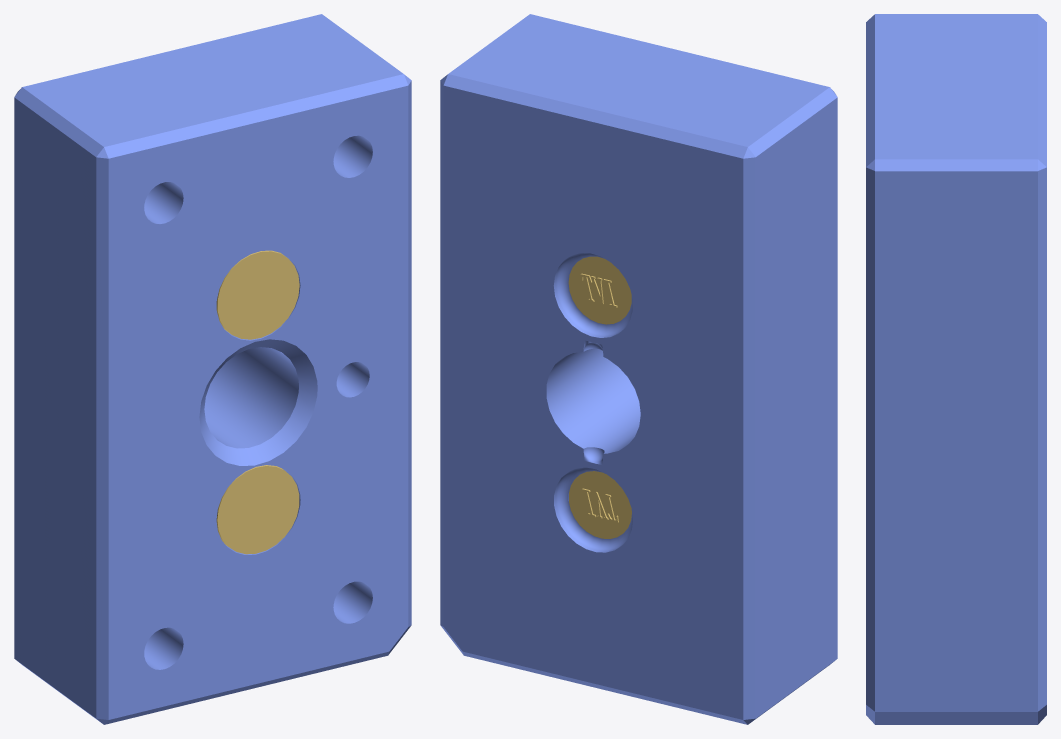
Rendered from cavity.glb.
3 renders of one model, left to right at view 1: azimuth 30°, elevation 25°; view 2: azimuth 150°, elevation 25°; view 3: azimuth 270°, elevation 25°, orthographic.
Visible parts, largest first — view 1: UM_CAVITY_BLOCK, Button_cav_sub_069 (×2); view 2: UM_CAVITY_BLOCK, Button_cav_sub_069 (×2); view 3: UM_CAVITY_BLOCK.
Part boxes in pixels (left/top/right/bottom): UM_CAVITY_BLOCK: left=14, top=14, right=411, bottom=724; Button_cav_sub_069 (×2): left=216, top=250, right=299, bottom=554; UM_CAVITY_BLOCK: left=440, top=14, right=837, bottom=724; Button_cav_sub_069 (×2): left=568, top=256, right=631, bottom=538; UM_CAVITY_BLOCK: left=866, top=14, right=1046, bottom=724.
Bounding box in the file's own units: 0.04 × 0.07 × 0.02.
